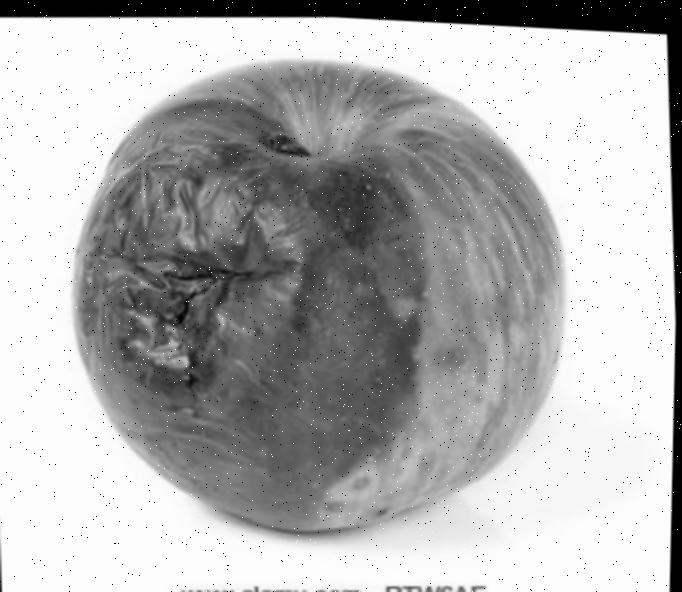ROT: (22, 29, 617, 583)
